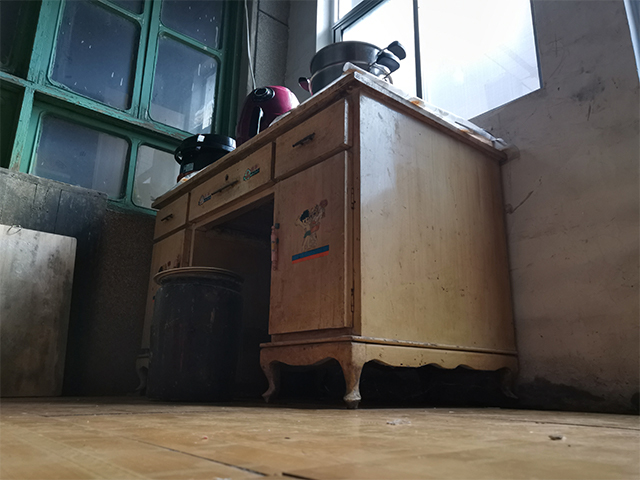cabinet: (131, 69, 522, 412)
